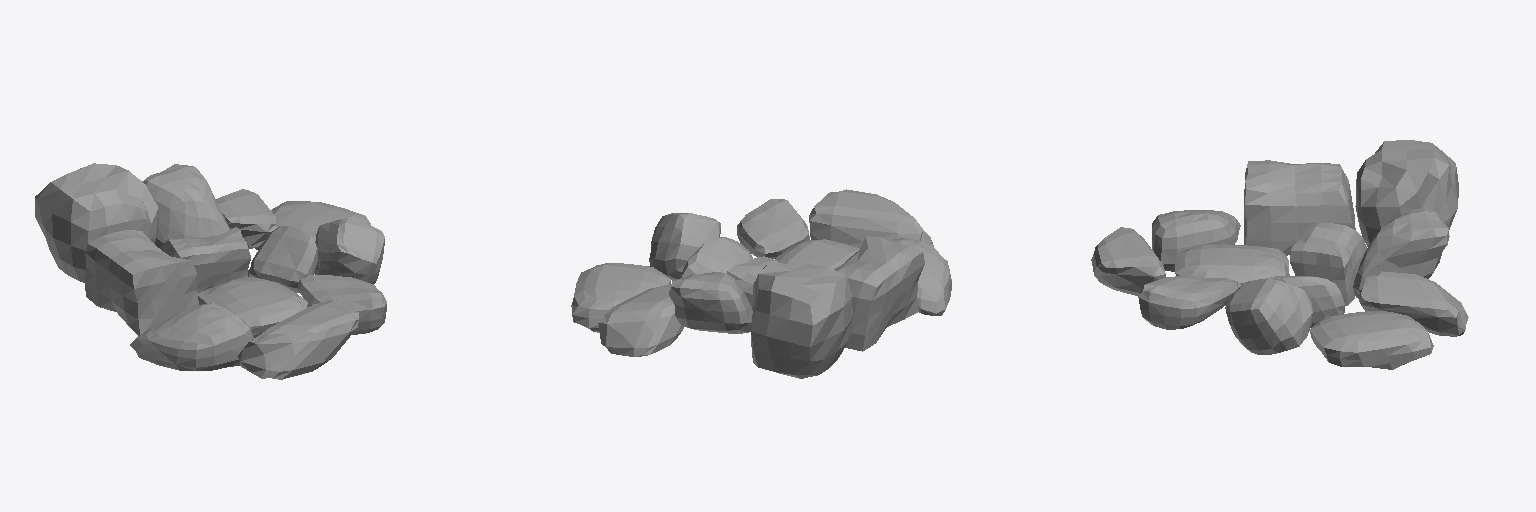
The model's file is RockPack.obj.
3 views of the same model, side by side, from view 1: azimuth 30°, elevation 25°; view 2: azimuth 150°, elevation 25°; view 3: azimuth 270°, elevation 25° (orthographic).
Visible parts, largest first — view 1: Cube.002, Cube.001, Cube.005_Cube.006, Cube.008_Cube.009, Cube.004_Cube.005, Cube.010_Cube.011, Cube.009_Cube.010, Cube.011_Cube.012, Cube.007_Cube.008, Cube_Cube.004, Cube.006_Cube.007, Cube.003; view 2: Cube.002, Cube.001, Cube.005_Cube.006, Cube.006_Cube.007, Cube.004_Cube.005, Cube.003, Cube.010_Cube.011, Cube_Cube.004, Cube.008_Cube.009, Cube.007_Cube.008, Cube.009_Cube.010, Cube.011_Cube.012; view 3: Cube.001, Cube.002, Cube.003, Cube.010_Cube.011, Cube.004_Cube.005, Cube.006_Cube.007, Cube_Cube.004, Cube.011_Cube.012, Cube.009_Cube.010, Cube.005_Cube.006, Cube.008_Cube.009, Cube.007_Cube.008.
Part boxes in pixels (x1,y1,x2,y2): Cube.002: (35, 163, 158, 282); Cube.001: (85, 230, 198, 335); Cube.005_Cube.006: (237, 300, 358, 379); Cube.008_Cube.009: (130, 303, 253, 370); Cube.004_Cube.005: (142, 164, 229, 247); Cube.010_Cube.011: (314, 218, 384, 283); Cube.009_Cube.010: (197, 276, 307, 337); Cube.011_Cube.012: (160, 227, 250, 292); Cube.007_Cube.008: (248, 226, 317, 292); Cube_Cube.004: (298, 275, 386, 334); Cube.006_Cube.007: (216, 189, 275, 248); Cube.003: (255, 201, 370, 249); Cube.002: (751, 263, 852, 378); Cube.001: (834, 236, 924, 351); Cube.005_Cube.006: (809, 189, 933, 247); Cube.006_Cube.007: (598, 284, 684, 356); Cube.004_Cube.005: (669, 272, 752, 333); Cube.003: (571, 263, 670, 332); Cube.010_Cube.011: (649, 213, 720, 280); Cube_Cube.004: (737, 199, 809, 258); Cube.008_Cube.009: (889, 238, 951, 315); Cube.007_Cube.008: (681, 237, 752, 277); Cube.009_Cube.010: (775, 239, 859, 269); Cube.011_Cube.012: (727, 256, 778, 309); Cube.001: (1244, 160, 1355, 255); Cube.002: (1355, 140, 1458, 246); Cube.003: (1309, 311, 1433, 369); Cube.010_Cube.011: (1225, 279, 1312, 354); Cube.004_Cube.005: (1353, 208, 1449, 297); Cube.006_Cube.007: (1358, 271, 1468, 336); Cube_Cube.004: (1138, 276, 1240, 329); Cube.011_Cube.012: (1290, 223, 1366, 305); Cube.009_Cube.010: (1175, 244, 1289, 286); Cube.005_Cube.006: (1091, 227, 1165, 296); Cube.008_Cube.009: (1152, 210, 1240, 271); Cube.007_Cube.008: (1266, 276, 1344, 327).
Size of the model in its own units: 216 by 78.95 by 238.